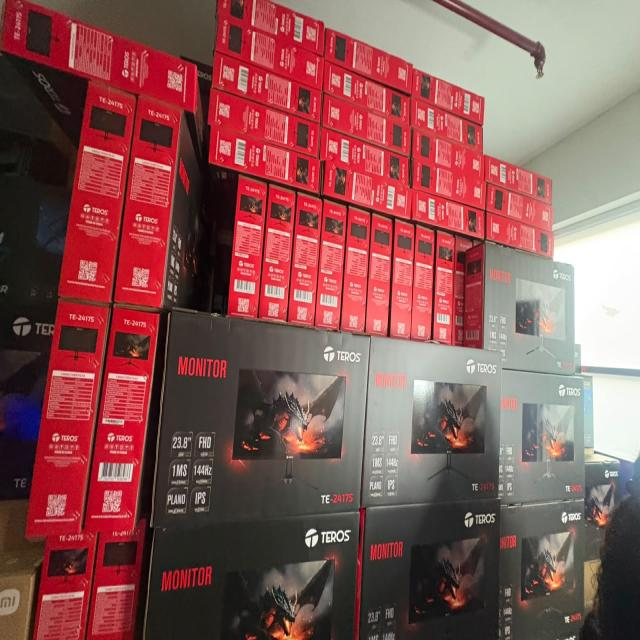caja-monitor: (153, 313, 371, 522), (146, 514, 357, 638), (363, 338, 500, 506), (2, 0, 194, 114), (357, 500, 501, 639), (26, 299, 109, 537), (115, 95, 203, 310), (83, 309, 165, 531), (58, 79, 135, 303), (466, 244, 575, 375), (498, 502, 587, 639), (500, 369, 585, 506), (213, 18, 324, 90), (215, 55, 323, 126), (209, 126, 319, 195), (210, 90, 319, 159), (35, 528, 94, 639), (228, 176, 268, 318), (325, 29, 412, 93), (217, 0, 324, 52), (323, 92, 411, 153), (325, 63, 410, 125), (323, 160, 411, 219), (321, 129, 409, 186), (260, 184, 296, 322), (288, 194, 322, 327), (411, 66, 484, 124), (315, 203, 347, 332), (583, 452, 620, 563), (411, 99, 483, 154), (412, 157, 486, 210), (411, 127, 485, 179), (413, 189, 485, 241), (341, 207, 371, 331), (367, 212, 394, 336), (486, 184, 553, 232), (486, 211, 554, 257), (389, 221, 414, 340), (486, 158, 551, 202), (413, 226, 435, 339), (433, 232, 454, 346), (453, 235, 473, 346)
